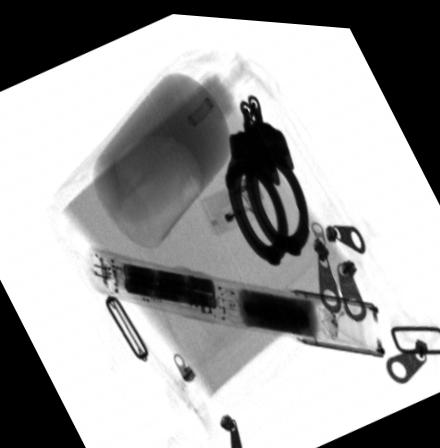Baton: (85, 247, 384, 351)
HandCuffs: (225, 89, 311, 262)
Lighter: (199, 174, 271, 237)
